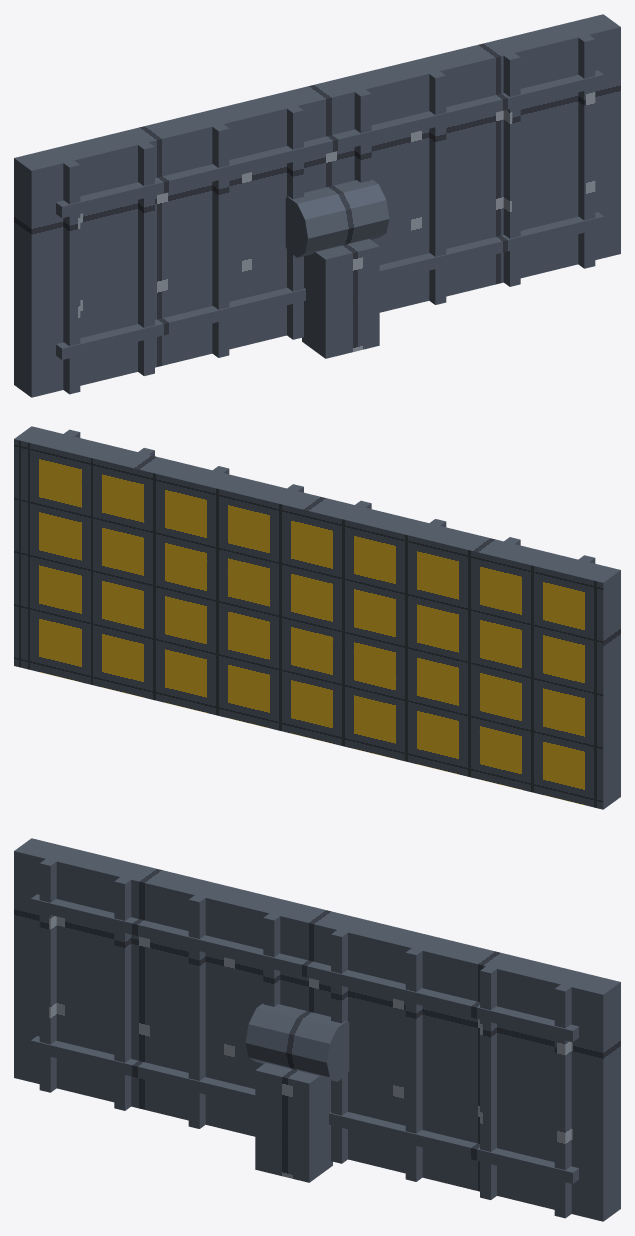
File: sci_sar.glb
3 views of the same model, one above another, from view 1: azimuth 30°, elevation 25°; view 2: azimuth 150°, elevation 25°; view 3: azimuth 330°, elevation 25° (orthographic).
Parts seen in each view (by area): view 1: sci_sar; view 2: sci_sar; view 3: sci_sar.
Boxes of the visible parts, x1,y1,x2,y2 form: sci_sar: (14, 14, 620, 397); sci_sar: (14, 426, 620, 809); sci_sar: (14, 838, 620, 1221).
Size of the model in its own units: 0.87 by 0.33 by 0.1125.
2 materials, 2 textured.
